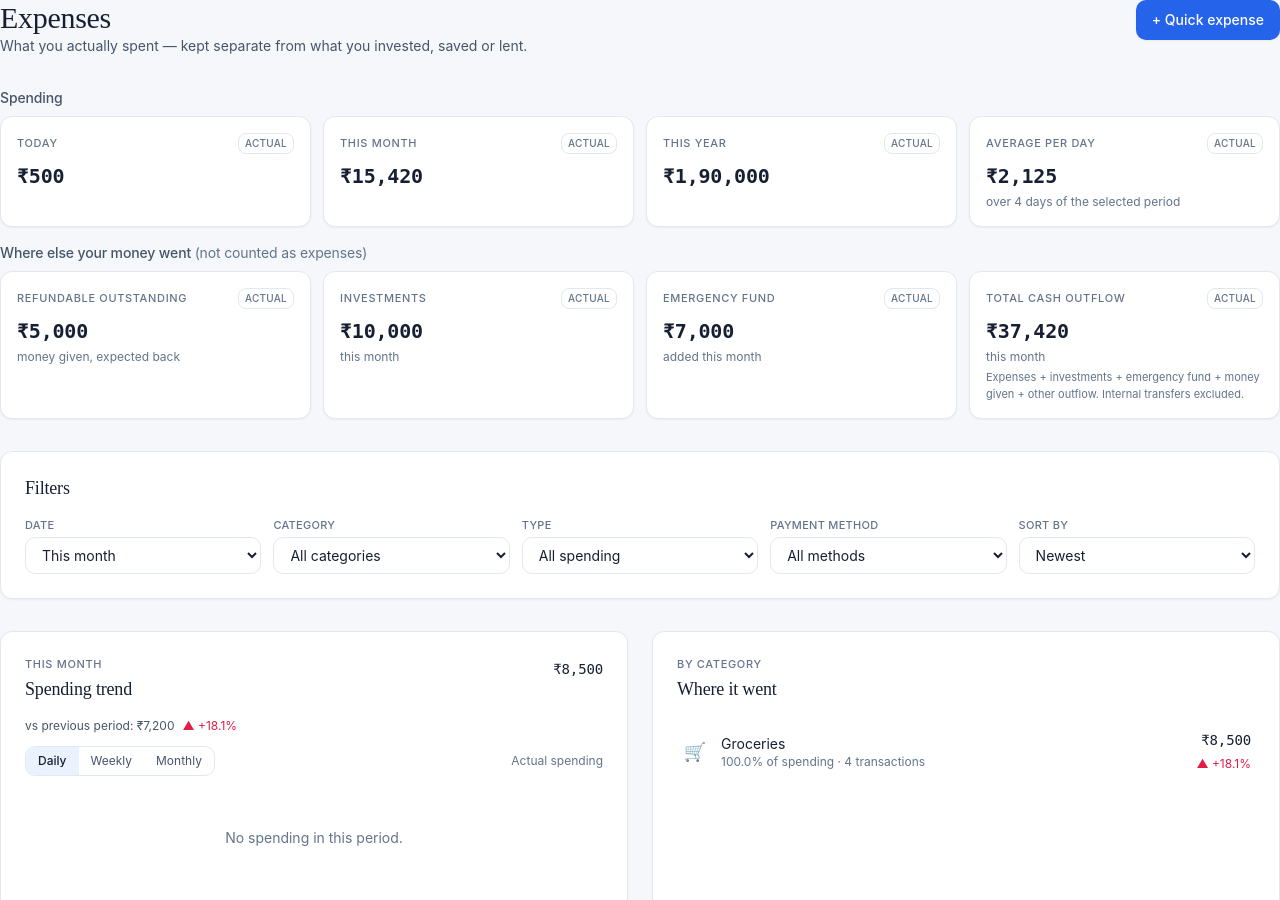
Test: ExpensesPage — category drill-down › clicking a category opens its analytics, scoped to that category
Expected: the 2nd text "▲ +18.1%" is shown, [1196,756,1251,770]
Click the button with aria-label "Groceries, ₹8,500".
click(753, 743)  # box [677,718,1255,786]
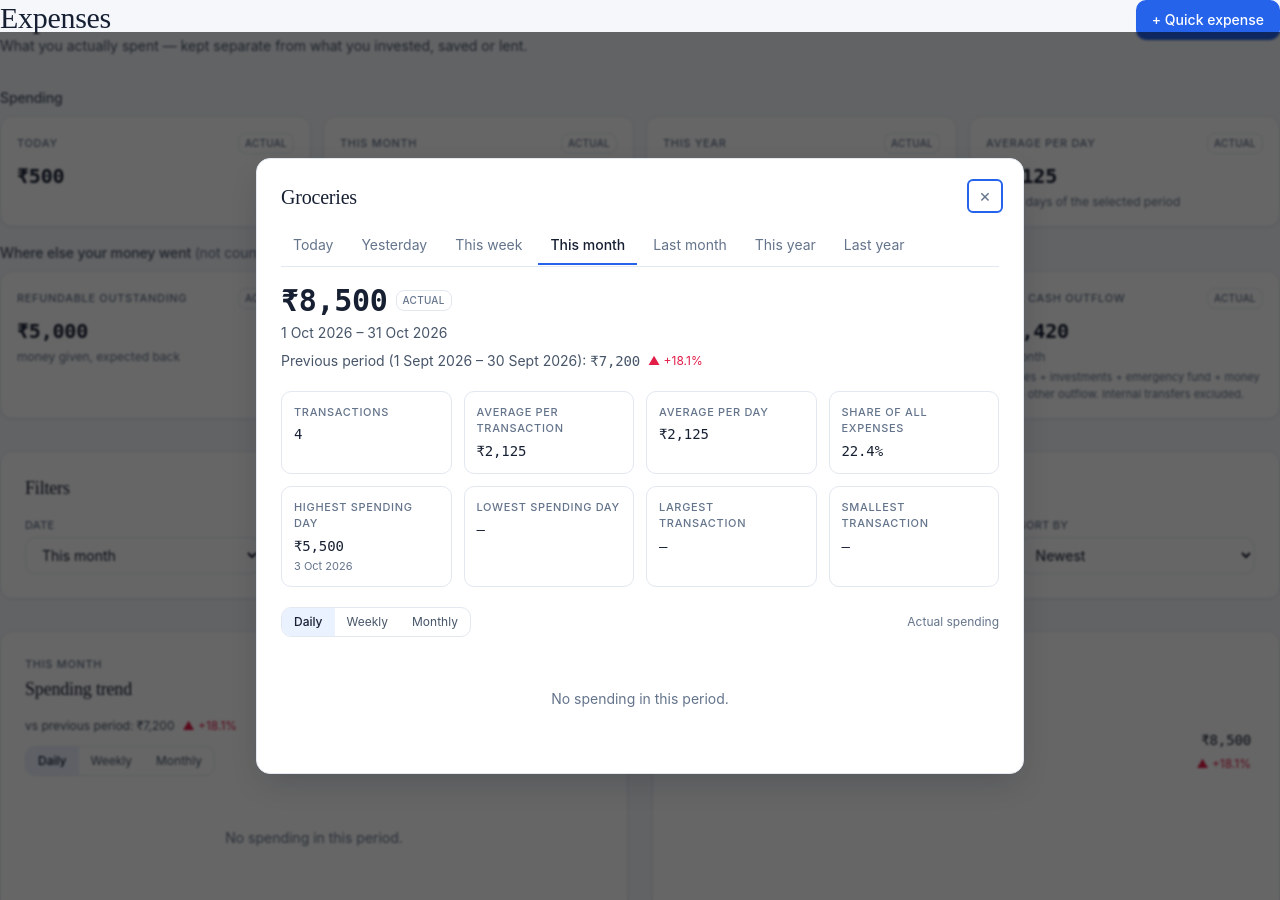
Result: the text "22.4%" is shown at [842,443,883,459]
Result: the tab "This month" is shown at [538,227,637,265]
